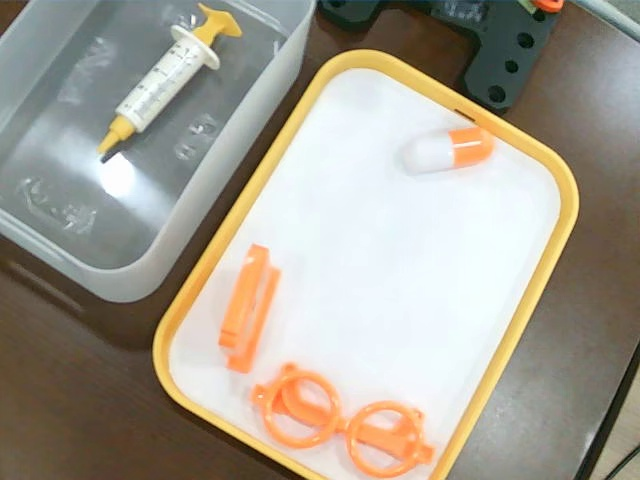pill: (401, 127, 497, 175)
syringe: (97, 2, 244, 155)
